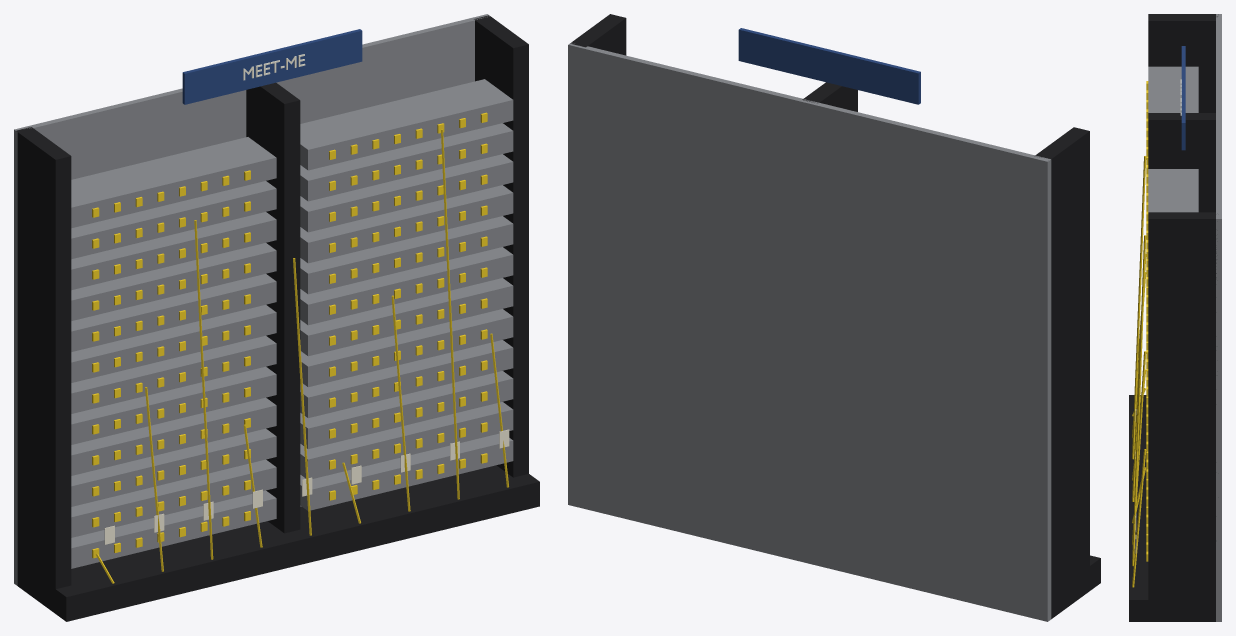
File: dc.odf-wall.glb
The picture shows the model from 3 angles, left to right: view 1: azimuth 30°, elevation 25°; view 2: azimuth 150°, elevation 25°; view 3: azimuth 270°, elevation 25°; orthographic projection. The views are drawn at different scales.
Parts seen in each view (by area): view 1: upright-1, duct, back, upright0, upright1, tray111, tray11-1, tray101, tray71, tray81, tray91, tray61 (+21 smaller); view 2: back, upright-1, sign, upright1, upright0, duct; view 3: upright1, upright0, upright-1, duct, back, tray111, tray11-1, lead7, lead2, sign, lead8, lead6 (+2 smaller).
Boxes of the visible parts, <box> form: upright-1: <box>16,127,71,596</box>; duct: <box>32,465,539,621</box>; back: <box>14,14,489,585</box>; upright0: <box>246,82,300,533</box>; upright1: <box>474,15,528,477</box>; tray111: <box>300,79,513,170</box>; tray11-1: <box>71,137,276,228</box>; tray101: <box>300,123,513,201</box>; tray71: <box>300,216,513,294</box>; tray81: <box>300,185,513,263</box>; tray91: <box>300,154,513,232</box>; tray61: <box>300,247,513,325</box>; back: <box>568,42,1051,621</box>; upright-1: <box>1034,127,1089,618</box>; sign: <box>738,28,920,104</box>; upright1: <box>570,14,626,55</box>; upright0: <box>802,82,857,111</box>; duct: <box>1066,555,1100,607</box>; upright1: <box>1148,212,1216,621</box>; upright0: <box>1148,113,1215,212</box>; upright-1: <box>1148,14,1218,112</box>; duct: <box>1129,395,1189,621</box>; back: <box>1216,14,1221,621</box>; tray111: <box>1148,169,1198,212</box>; tray11-1: <box>1148,66,1198,112</box>; lead7: <box>1132,235,1146,565</box>; lead2: <box>1132,156,1146,459</box>; sign: <box>1181,46,1185,150</box>; lead8: <box>1132,449,1146,587</box>; lead6: <box>1132,351,1146,544</box>.
Size of the model in its own units: 2.4 by 2.37 by 0.46.
